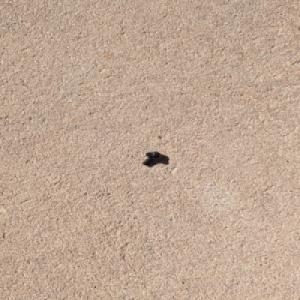BoltWasher: (141, 151, 163, 165)
